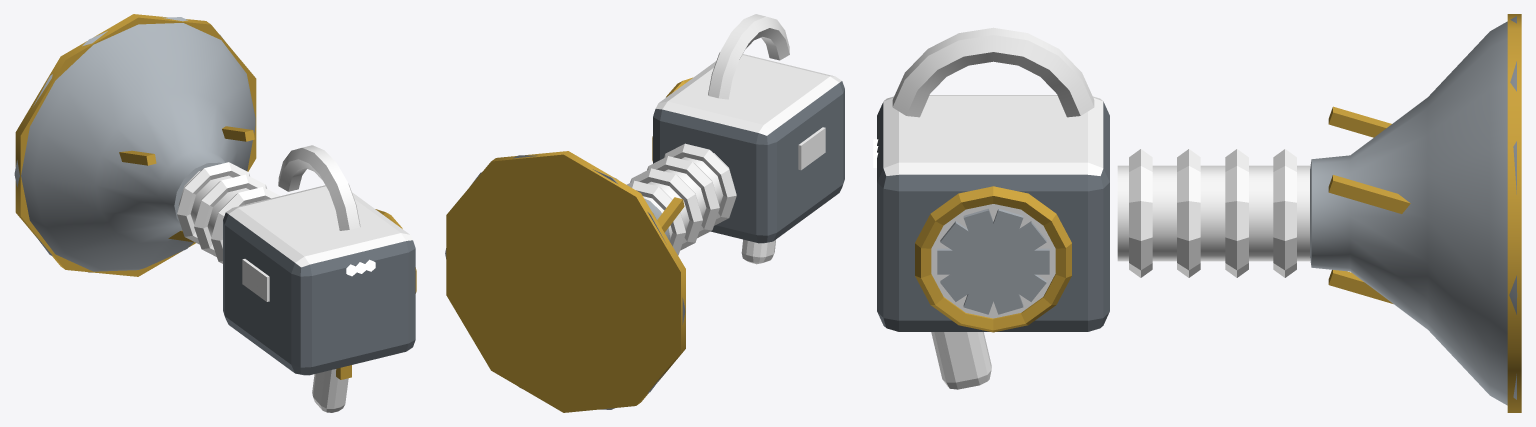
The model's file is compressor.glb.
3 renders of one model, left to right at view 1: azimuth 30°, elevation 25°; view 2: azimuth 150°, elevation 25°; view 3: azimuth 270°, elevation 25°, orthographic. The views are drawn at different scales.
Visible parts, largest first — view 1: Compressor; view 2: Compressor; view 3: Compressor.
Boxes of the visible parts, x1,y1,x2,y2 form: Compressor: (14, 14, 416, 412); Compressor: (445, 14, 844, 412); Compressor: (873, 14, 1521, 412).
Bounding box in the file's own units: 0.51 × 0.524 × 0.836.
